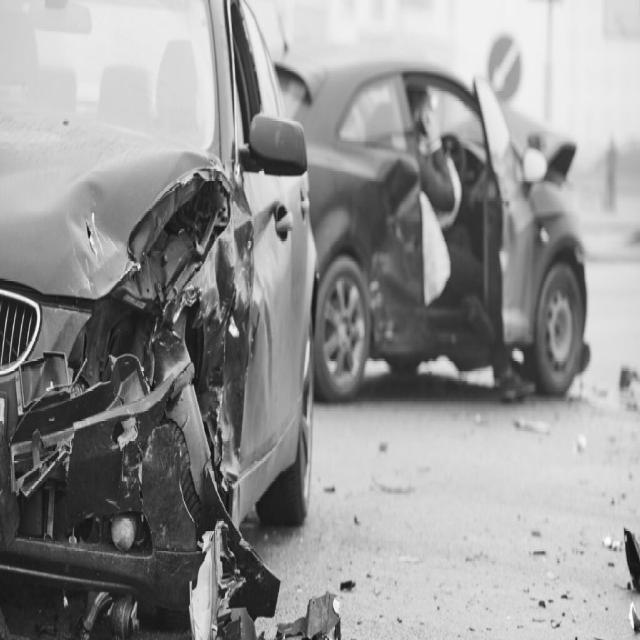crush: (0, 152, 282, 640)
